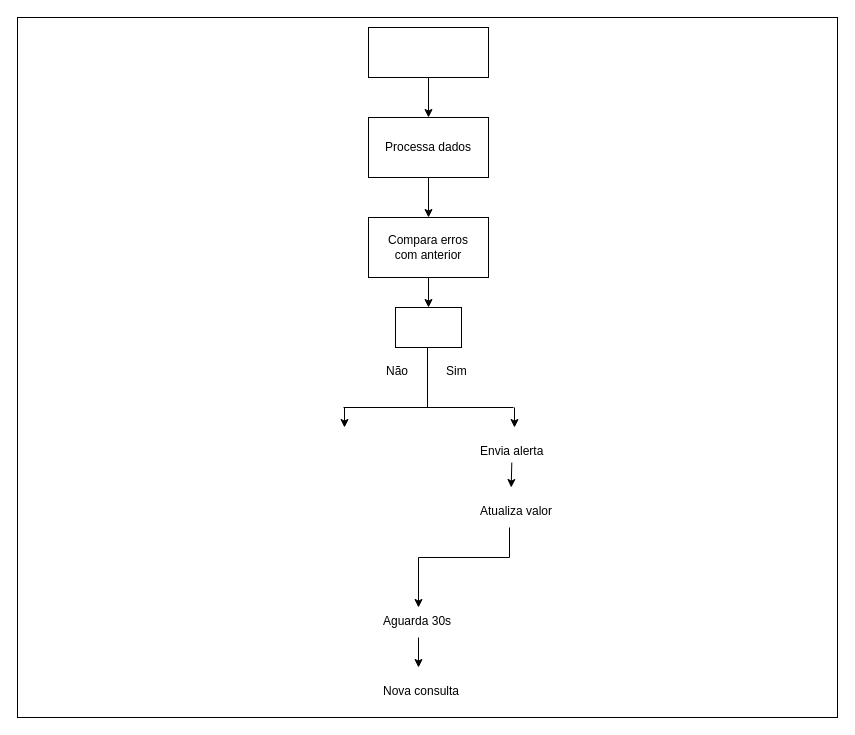
Image size: 855x735. Some labels were removed from this diagram. The shapes that lost their labels are listed below. From the top down, each one's centre as x and y in pixels, then its label:
At (x=428, y=52): "Consulta MySQL".
At (x=428, y=327): "Aumentou?".
